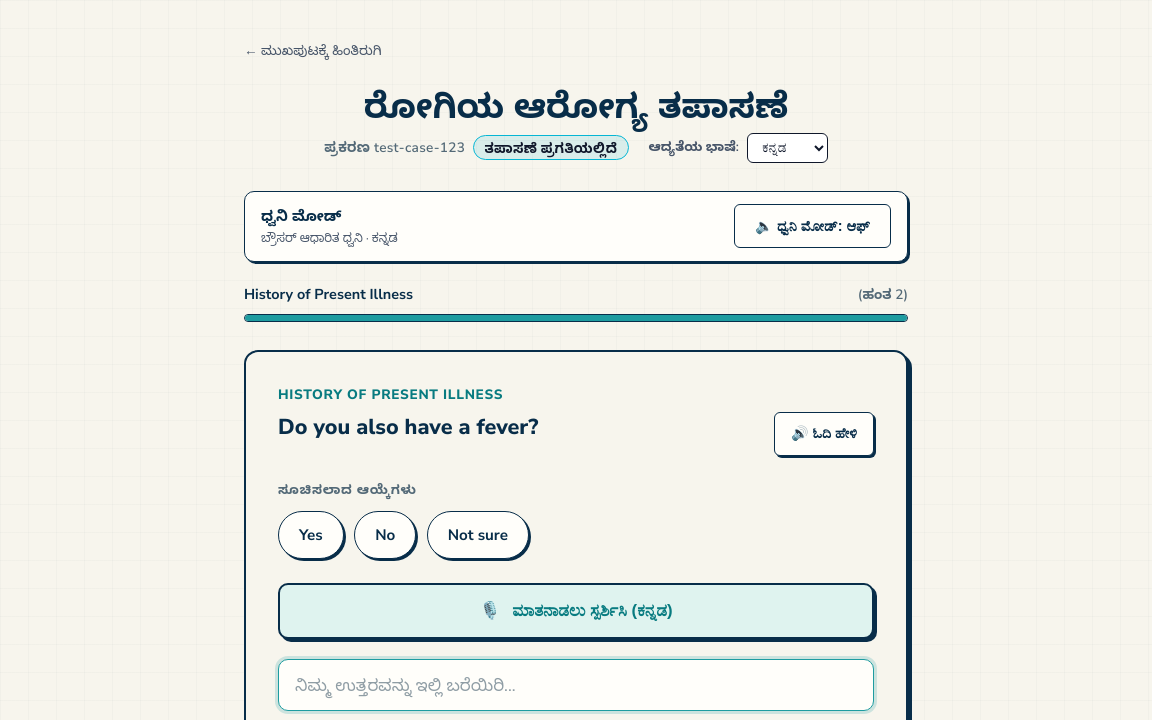
Intake Robustness and Question Error Handling › shows inline Try again when answering a question encounters a question load failure and keeps patient answers
Check: the text "Do you also have a fever?" is shown, box x1=278 y1=412 x2=538 y2=442
Click "Yes" option pill
Click the button "Yes" at coordinates (311, 535), box x1=278 y1=511 x2=344 y2=559
(page scrolled)
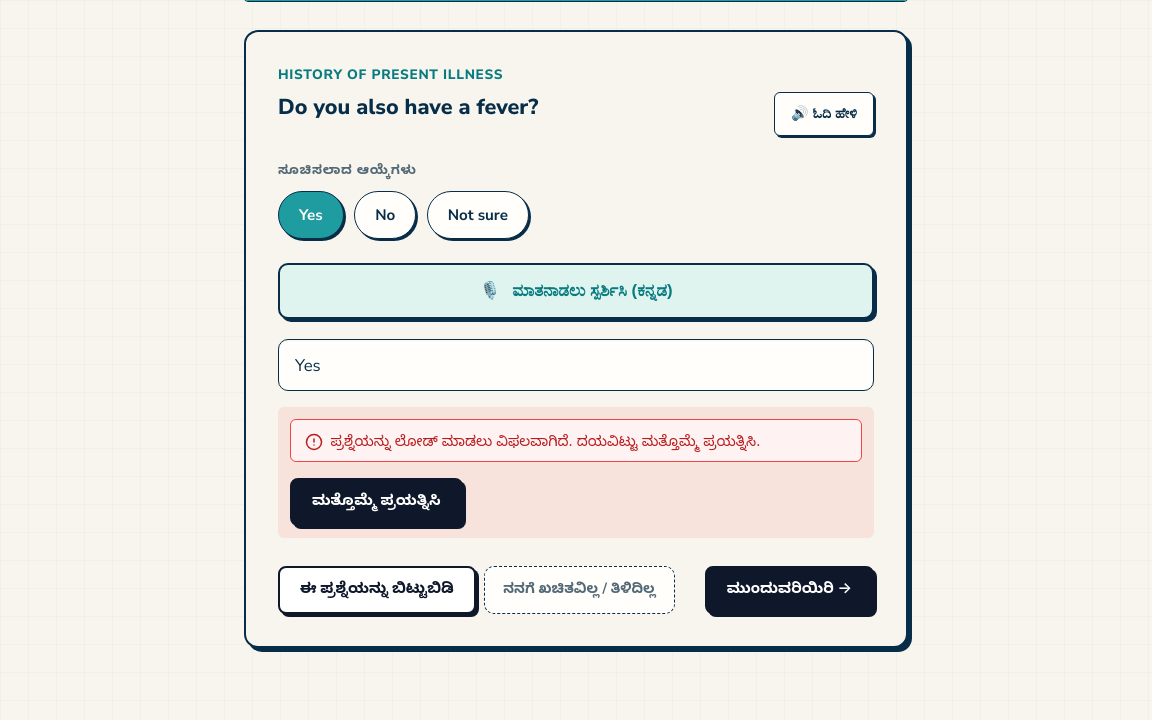
Check: the button "ಮತ್ತೊಮ್ಮೆ ಪ್ರಯತ್ನಿಸಿ" is shown
Click "Try again"
Click the button "ಮತ್ತೊಮ್ಮೆ ಪ್ರಯತ್ನಿಸಿ" at coordinates (376, 502), box x1=290 y1=478 x2=462 y2=526
(page scrolled)
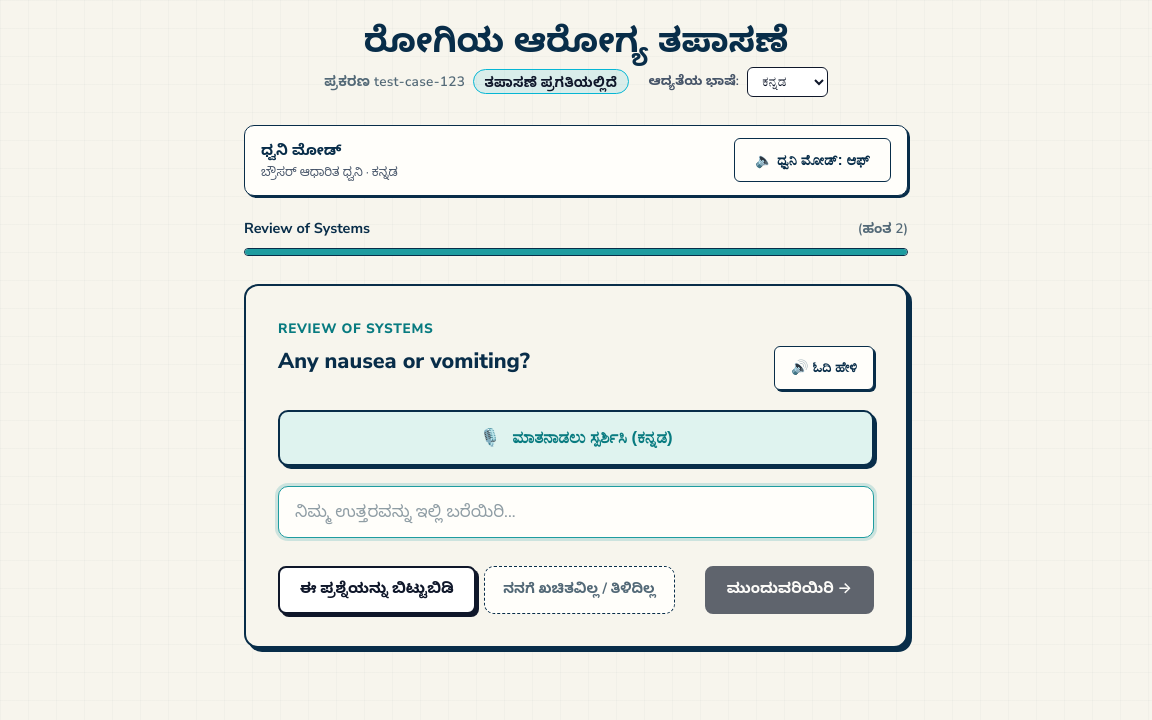
Check: the text "Any nausea or vomiting?" is shown, box x1=278 y1=346 x2=530 y2=376
